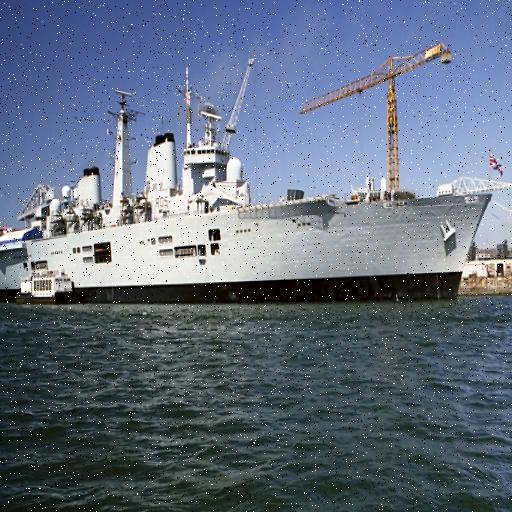Portanaves: (1, 55, 498, 307)
